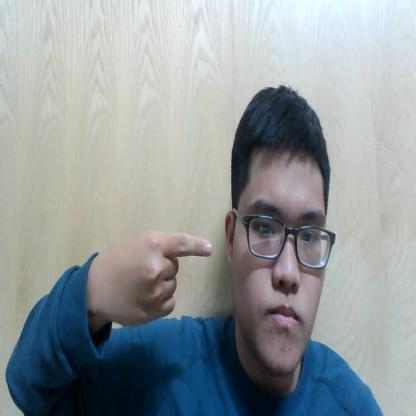left: (110, 218, 214, 334)
